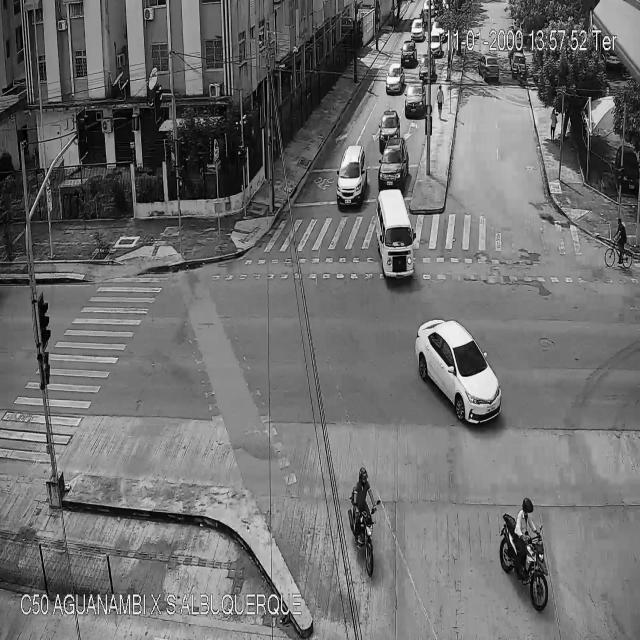Car: (415, 318, 502, 427), (375, 188, 417, 280), (336, 144, 365, 208), (378, 134, 409, 192), (378, 111, 400, 149), (404, 80, 426, 116), (385, 63, 404, 95), (477, 56, 499, 83), (428, 29, 442, 60), (419, 56, 435, 81), (401, 42, 416, 68), (511, 52, 526, 76), (409, 16, 423, 37)
Motorcycle: (499, 498, 552, 613), (348, 468, 381, 584), (516, 62, 526, 82)
